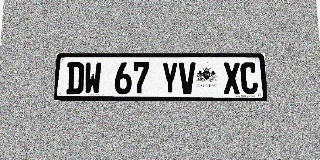6: (114, 62, 132, 94)
7: (132, 62, 149, 94)
C: (240, 62, 258, 94)
D: (66, 62, 84, 94)
V: (179, 62, 196, 94)
W: (84, 62, 102, 94)
X: (223, 62, 241, 94)
Y: (161, 62, 178, 94)
